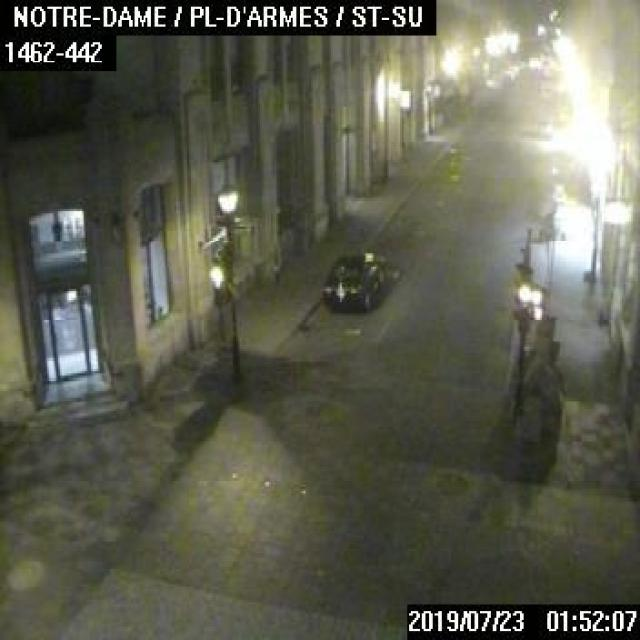vehicle: (318, 245, 387, 311)
